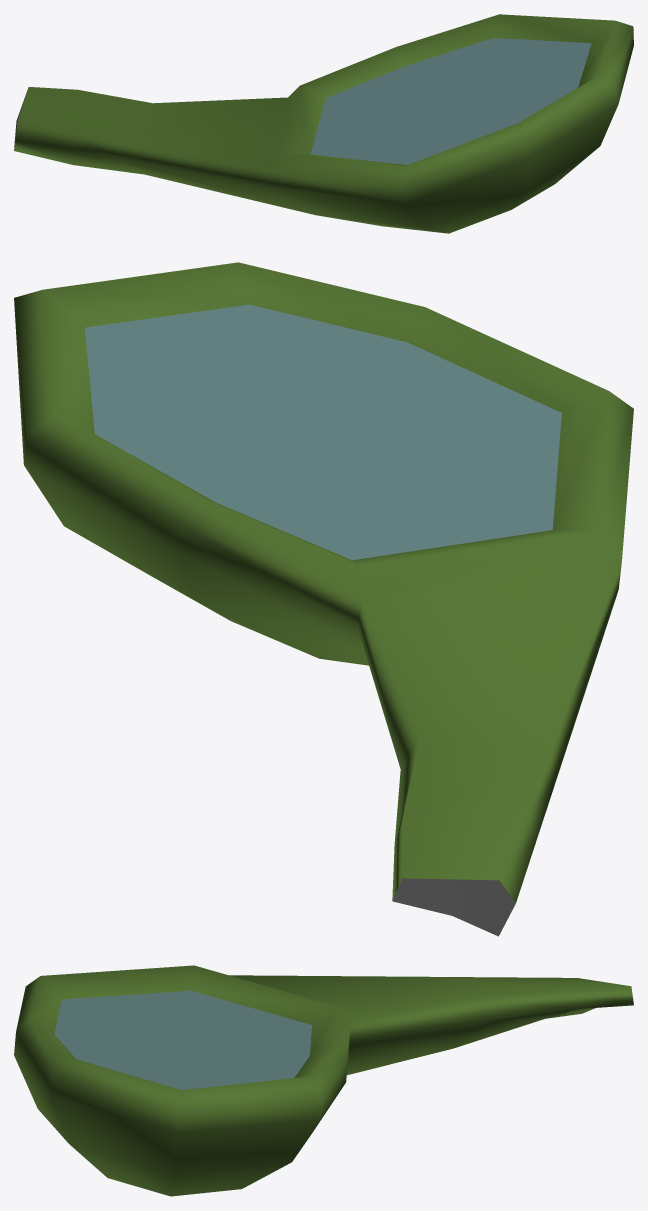
Rendered from Autopartes_3.fbx.
3 renders of one model, top to bottom at view 1: azimuth 30°, elevation 25°; view 2: azimuth 150°, elevation 25°; view 3: azimuth 270°, elevation 25°, orthographic. The views are drawn at different scales.
Visible parts, largest first — view 1: RETROVISOR; view 2: RETROVISOR; view 3: RETROVISOR.
Part boxes in pixels (x1,y1,x2,y2): RETROVISOR: (14, 14, 633, 233); RETROVISOR: (14, 262, 633, 936); RETROVISOR: (14, 965, 633, 1196).
Size of the model in its own units: 26.09 by 8.09 by 25.83.
